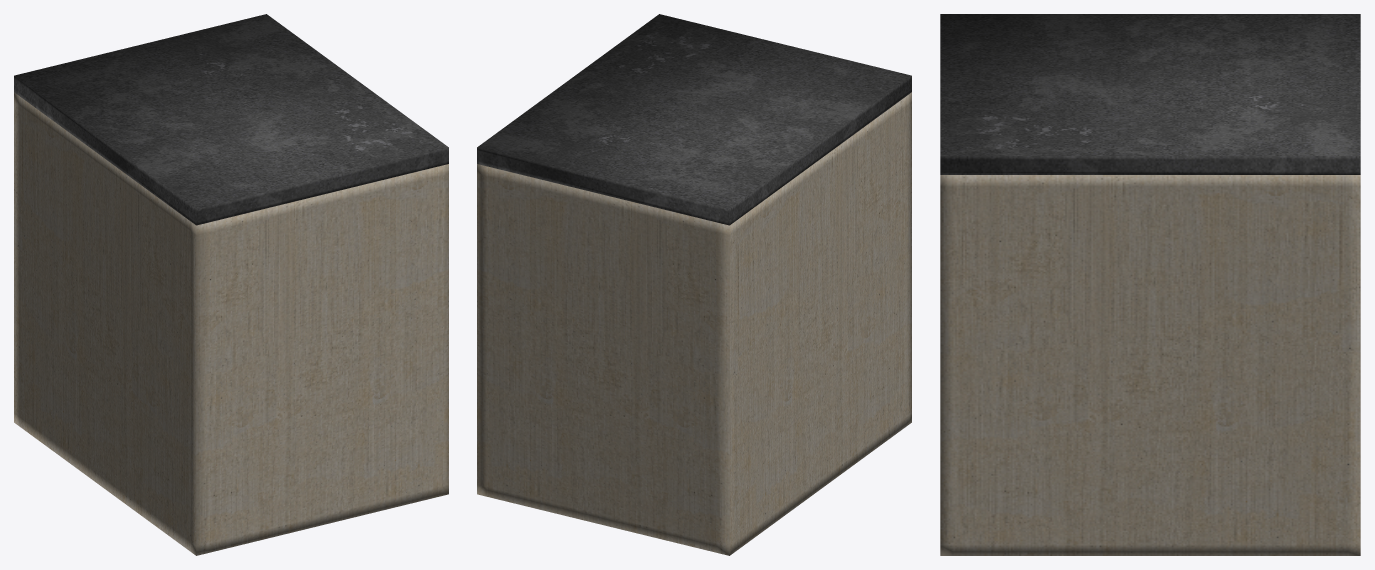
File: cabinet.low.corner.connector.fbx
3 views of the same model, side by side, from view 1: azimuth 30°, elevation 25°; view 2: azimuth 150°, elevation 25°; view 3: azimuth 270°, elevation 25° (orthographic). The views are drawn at different scales.
Parts seen in each view (by area): view 1: Base, Cube.001; view 2: Base, Cube.001; view 3: Base, Cube.001.
Boxes of the visible parts, x1,y1,x2,y2 form: Base: [14, 92, 448, 555]; Cube.001: [14, 14, 448, 225]; Base: [477, 92, 911, 555]; Cube.001: [477, 14, 911, 225]; Base: [940, 175, 1360, 555]; Cube.001: [940, 14, 1360, 174].
Size of the model in its own units: 80 by 105 by 100.
